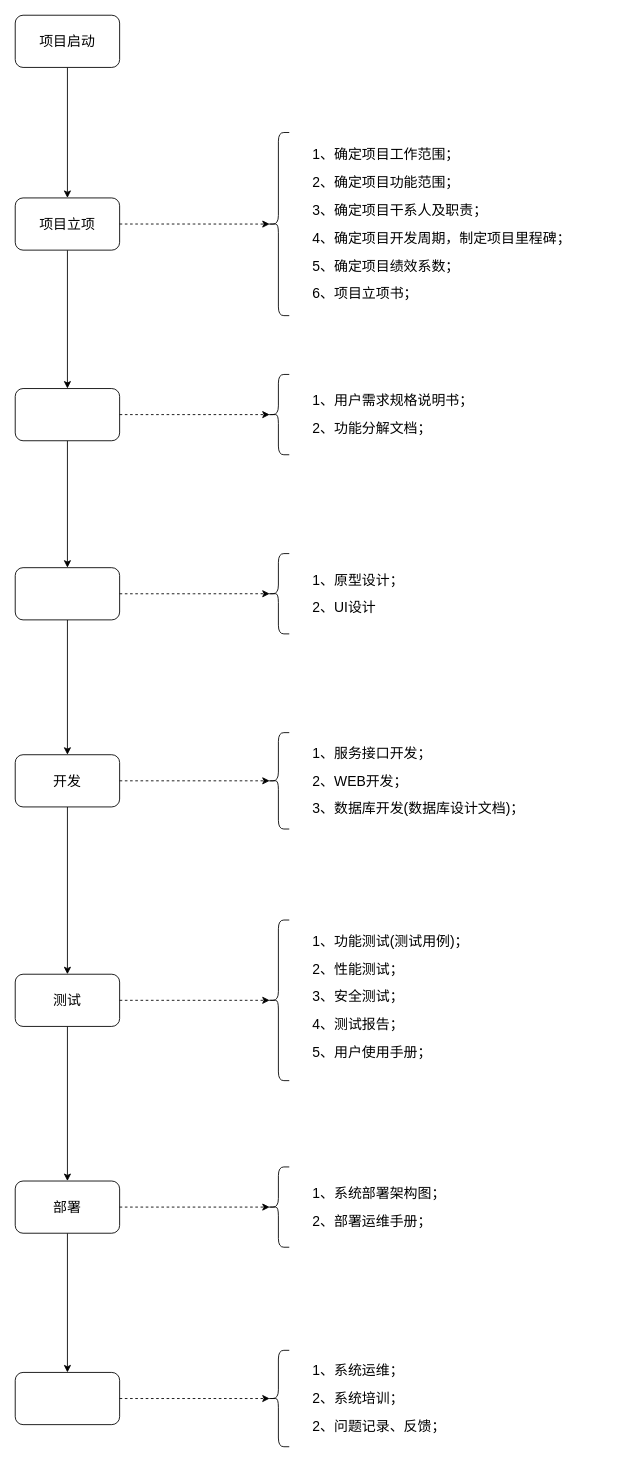
Image size: 631x1466. Some labels were removed from this diagram. The centre of each missing label's shape, as x and y in pixels:
"售后运维" belongs at pixel 67 1398.
"设计" belongs at pixel 67 593.
"需求调研" belongs at pixel 67 414.
